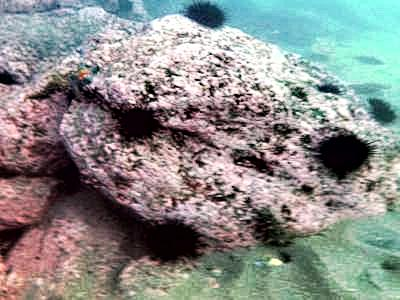urchin: (136, 218, 201, 264), (318, 129, 368, 171), (119, 105, 158, 137), (189, 3, 226, 30)
